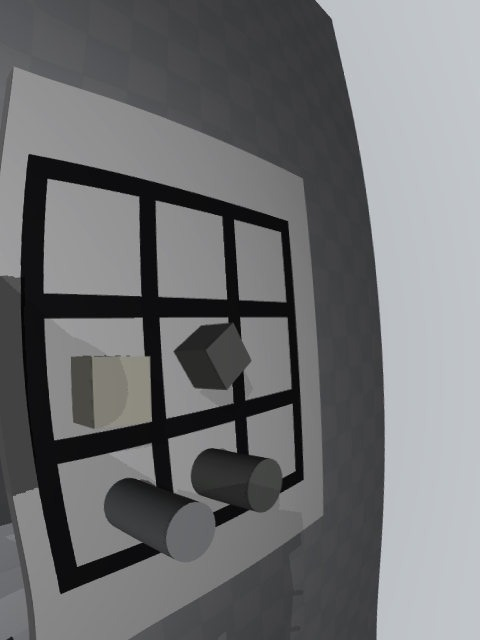can: (104, 478, 215, 562)
cube: (174, 322, 252, 390)
cylinder: (191, 448, 283, 513)
foam: (71, 356, 152, 429)
